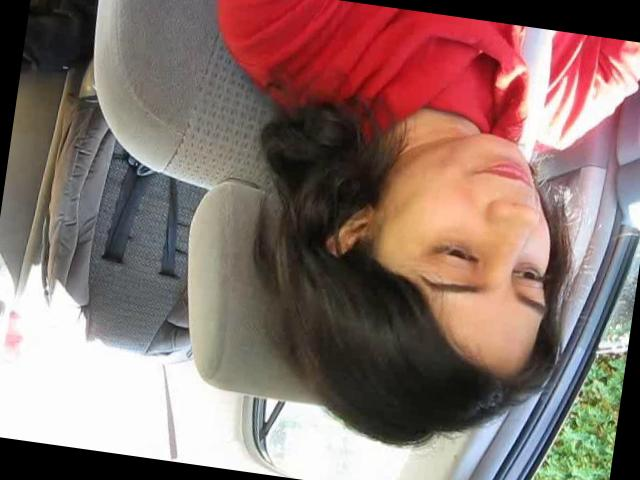eye_open: (428, 235, 486, 273), (512, 258, 546, 290)
face: (368, 119, 572, 335)
